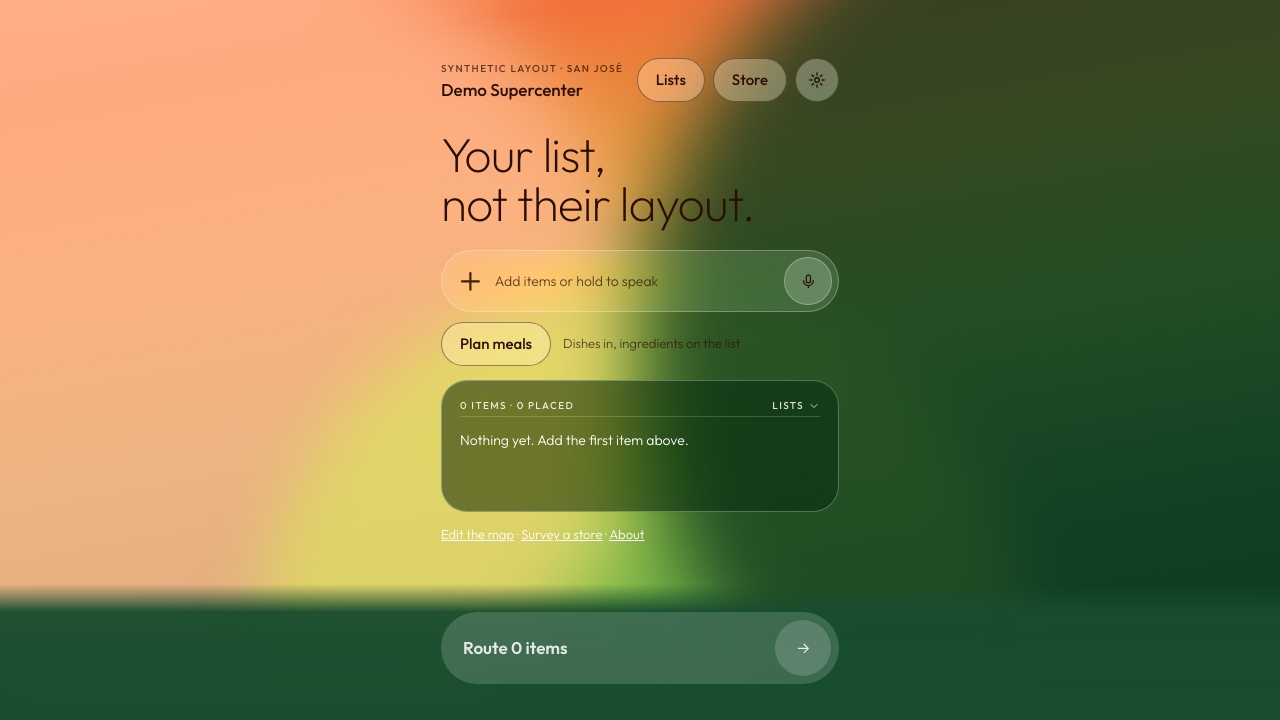
Scenario: list screen › resolves typed and comma-separated items with a source glyph, flags unknown ones
The image size is (1280, 720).
Type "milk" into the field labelled "Add items or hold to speak". click: (634, 281)
box: [495, 260, 774, 302]
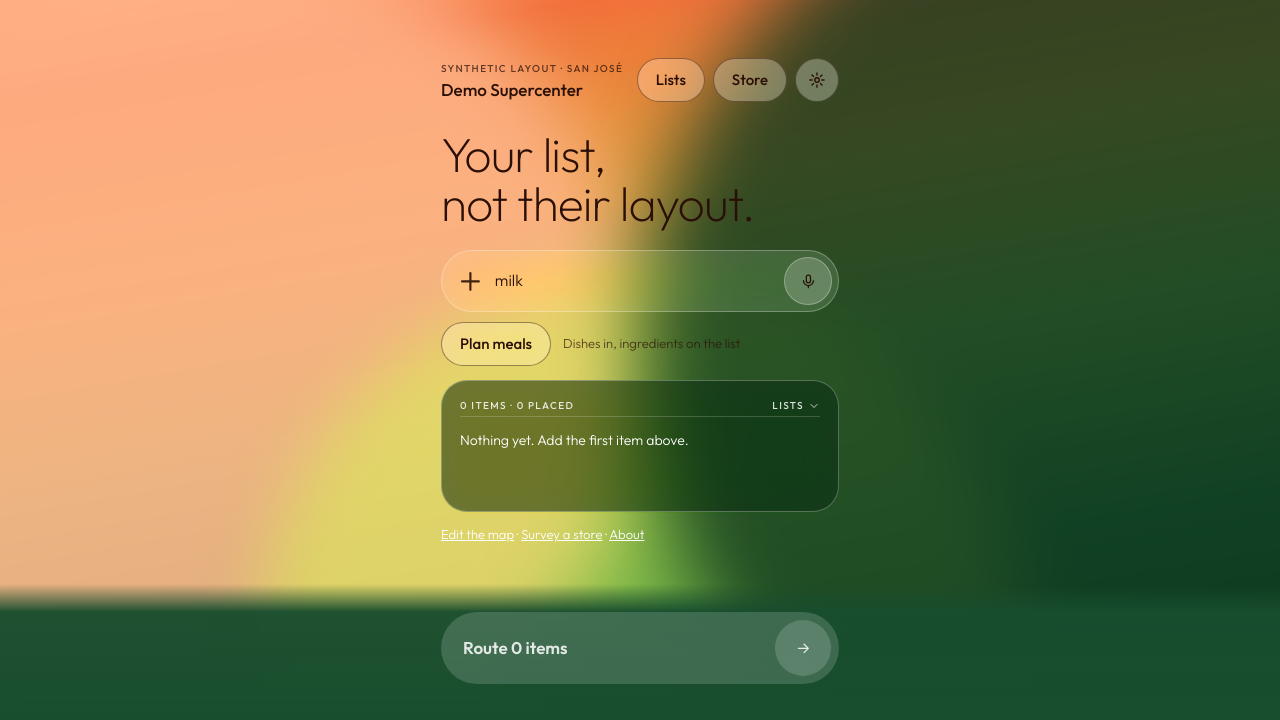
Submit the form named "add items", box [441, 250, 839, 312]
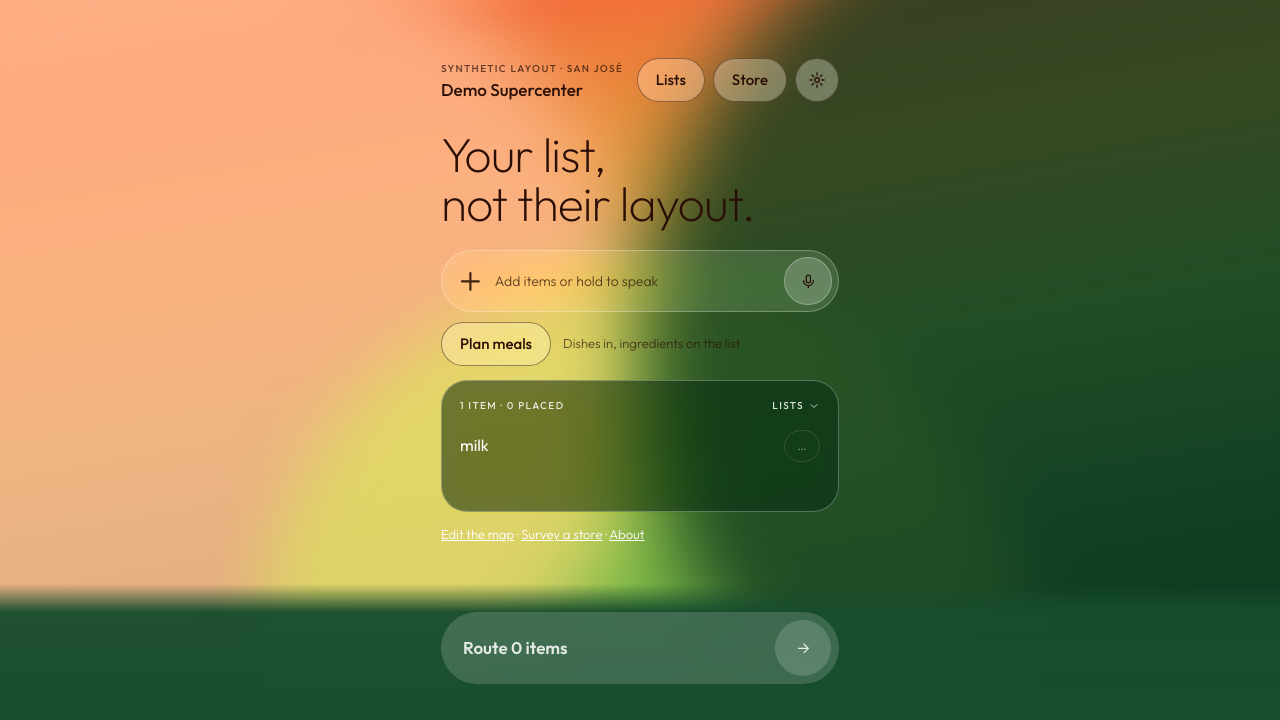
Type "egs, unicorn" into the field labelled "Add items or hold to speak". click: (634, 281)
box: [495, 260, 774, 302]
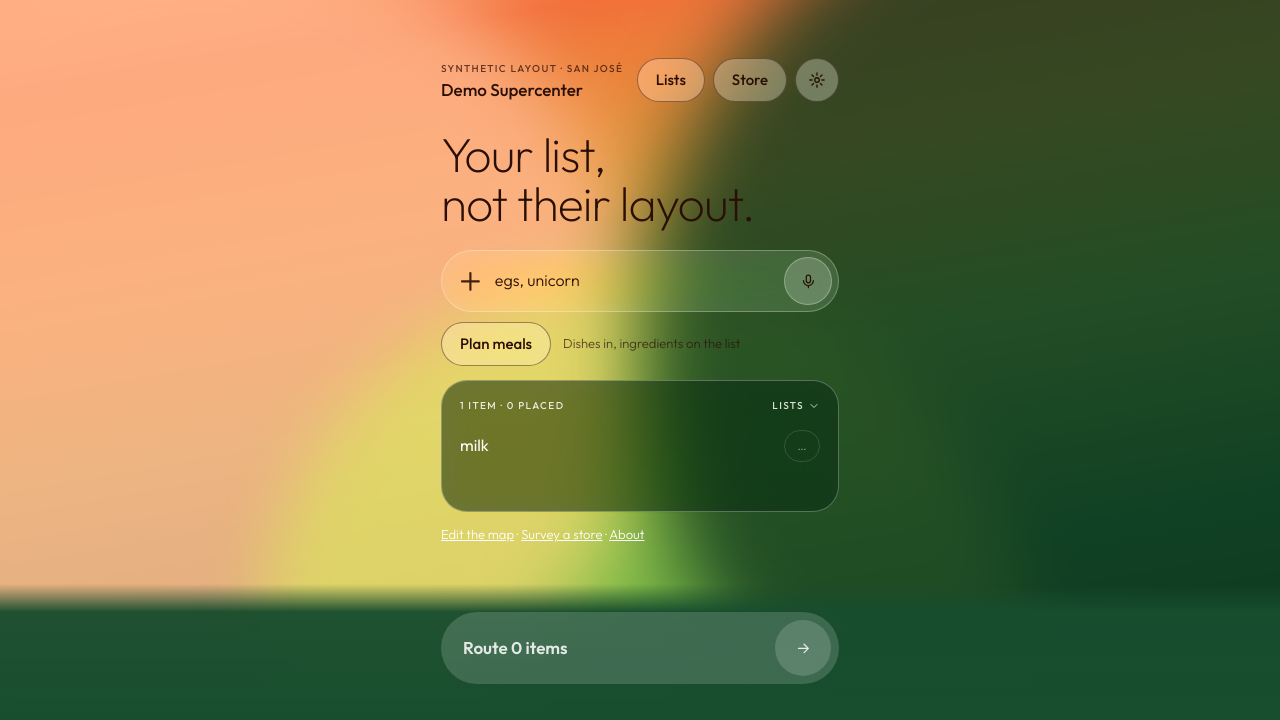
Submit the form named "add items", box [441, 250, 839, 312]
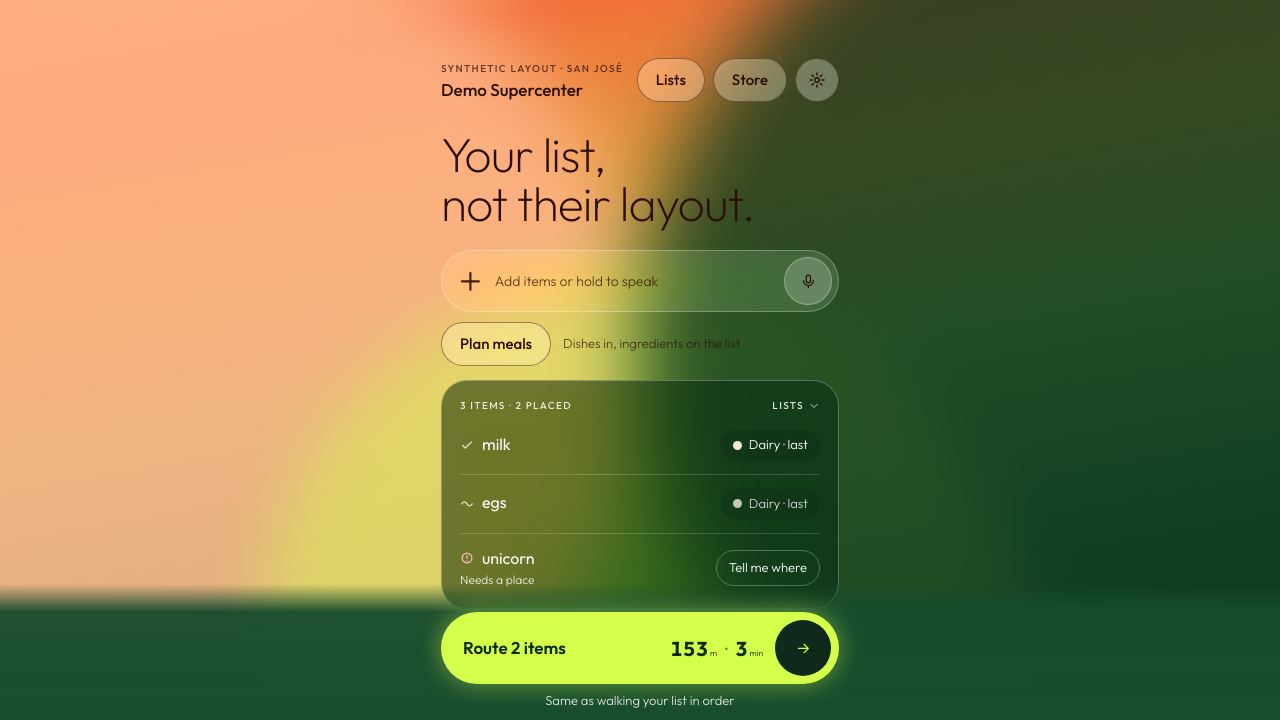
Check: the text "3 items · 2 placed" is shown, box [460, 399, 572, 412]
Check: the number of list items is 3, box [460, 430, 820, 460]; [460, 474, 820, 532]; [460, 532, 820, 602]
Check: the 1st text "Dairy · last" is shown, box [721, 430, 820, 460]
